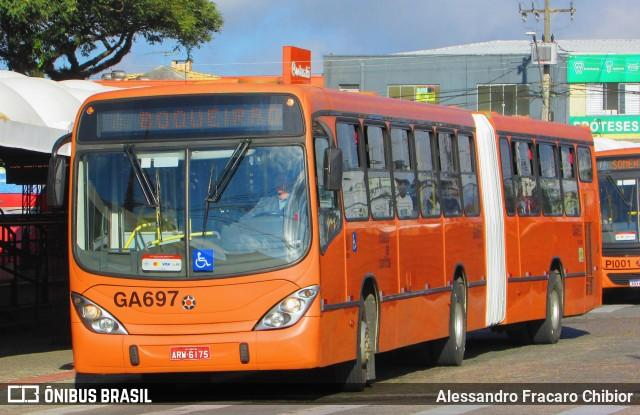BOQUEIRAO: (135, 103, 282, 135)
